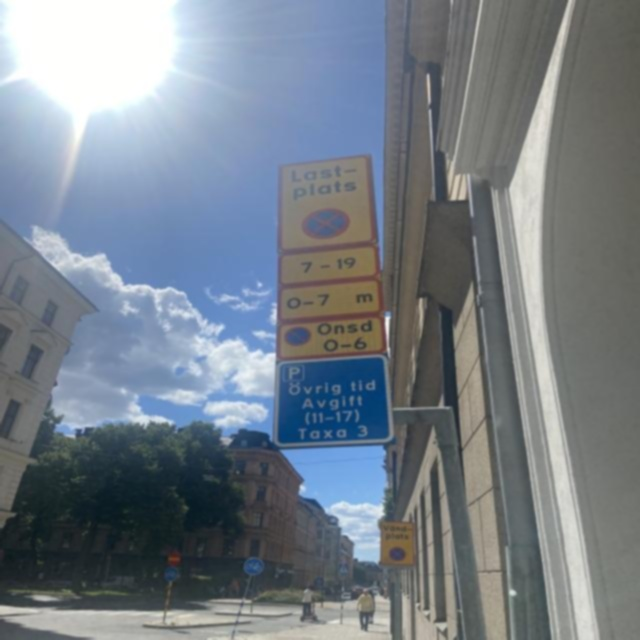lastplats: (278, 153, 374, 254)
